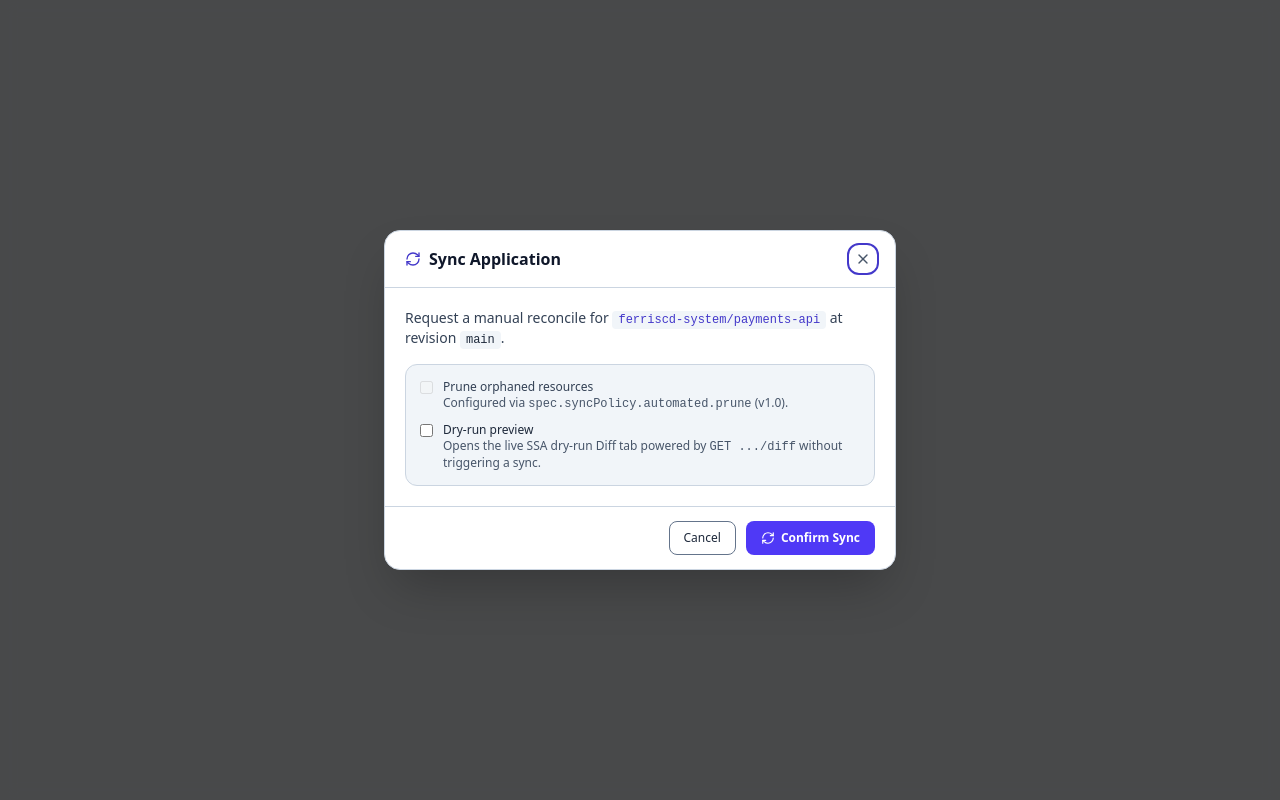
it: SyncModal & RollbackModal (T16.4 & Trap Guard T16.4) › shows readable success feedback, never the raw operation JSON (M7)
Click the button "Confirm Sync": (810, 538) x1=746 y1=521 x2=875 y2=555
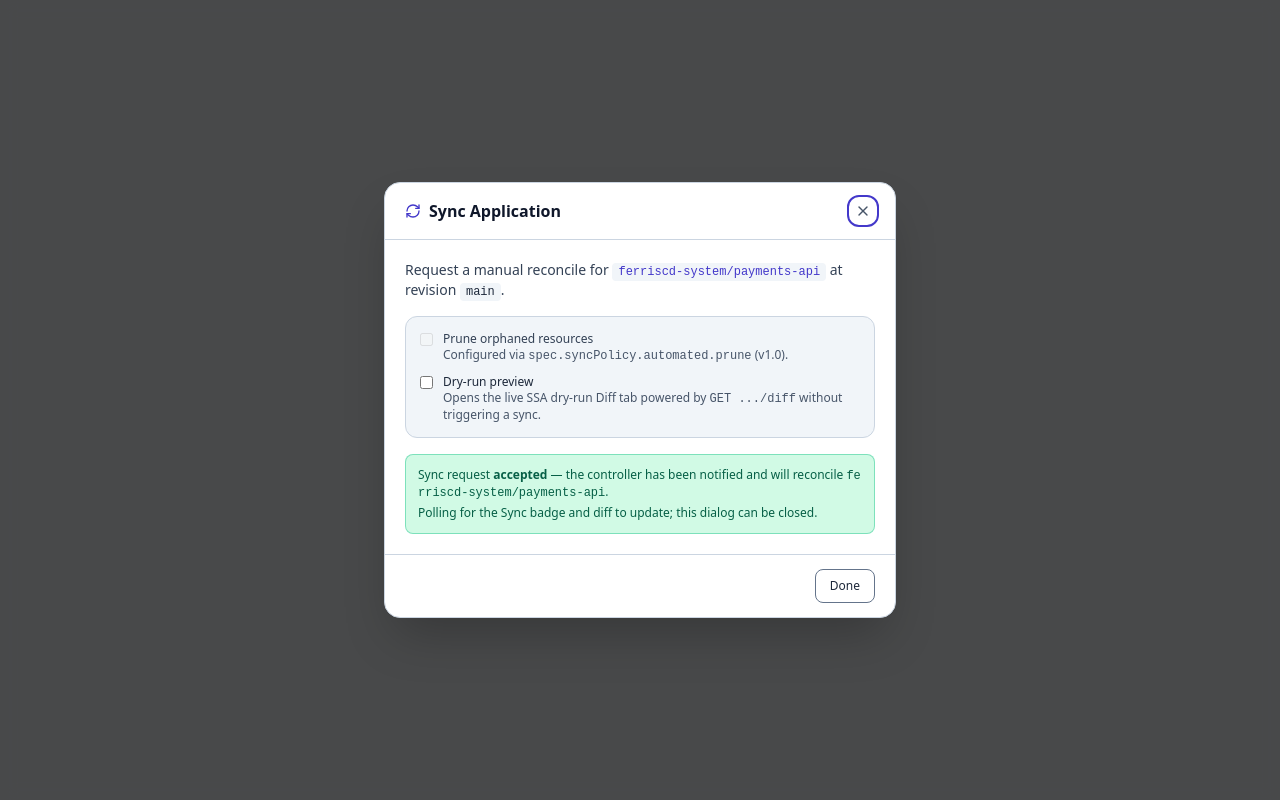
Expected: the message with test id "sync-success-banner" does not show "{", x1=405 y1=454 x2=875 y2=534
Expected: the message with test id "sync-success-banner" shows "accepted", x1=493 y1=466 x2=548 y2=483
